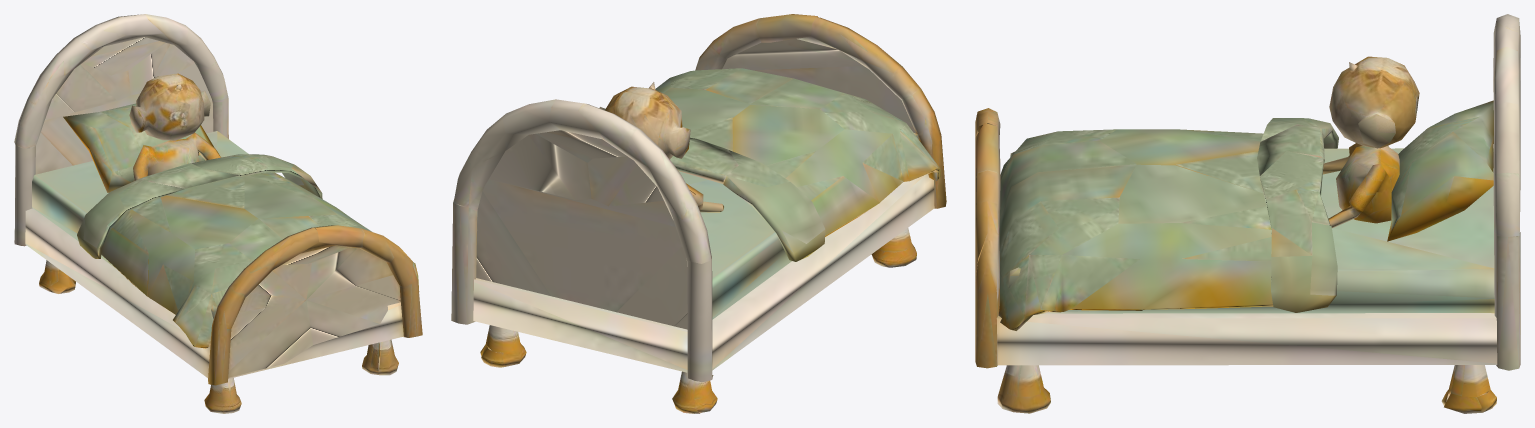
File: bed.glb
3 views of the same model, side by side, from view 1: azimuth 30°, elevation 25°; view 2: azimuth 150°, elevation 25°; view 3: azimuth 270°, elevation 25° (orthographic). The views are drawn at different scales.
Visible parts, largest first — view 1: bed; view 2: bed; view 3: bed.
Boxes of the visible parts, left/top/right/bottom form: bed: left=14, top=14, right=422, bottom=413; bed: left=451, top=14, right=946, bottom=413; bed: left=975, top=14, right=1520, bottom=413.
Bounding box in the file's own units: 0.8916 × 0.8505 × 1.3.
Materials: 1 (1 with a texture image).
